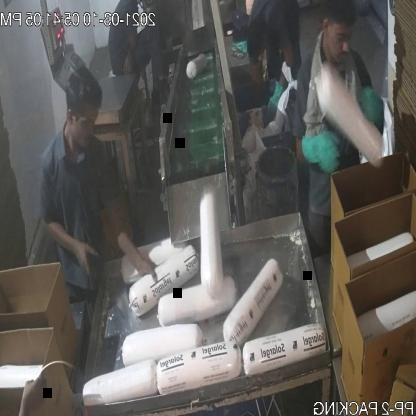glove: (290, 127, 350, 176)
no_glove: (104, 200, 168, 284), (35, 220, 98, 288)
